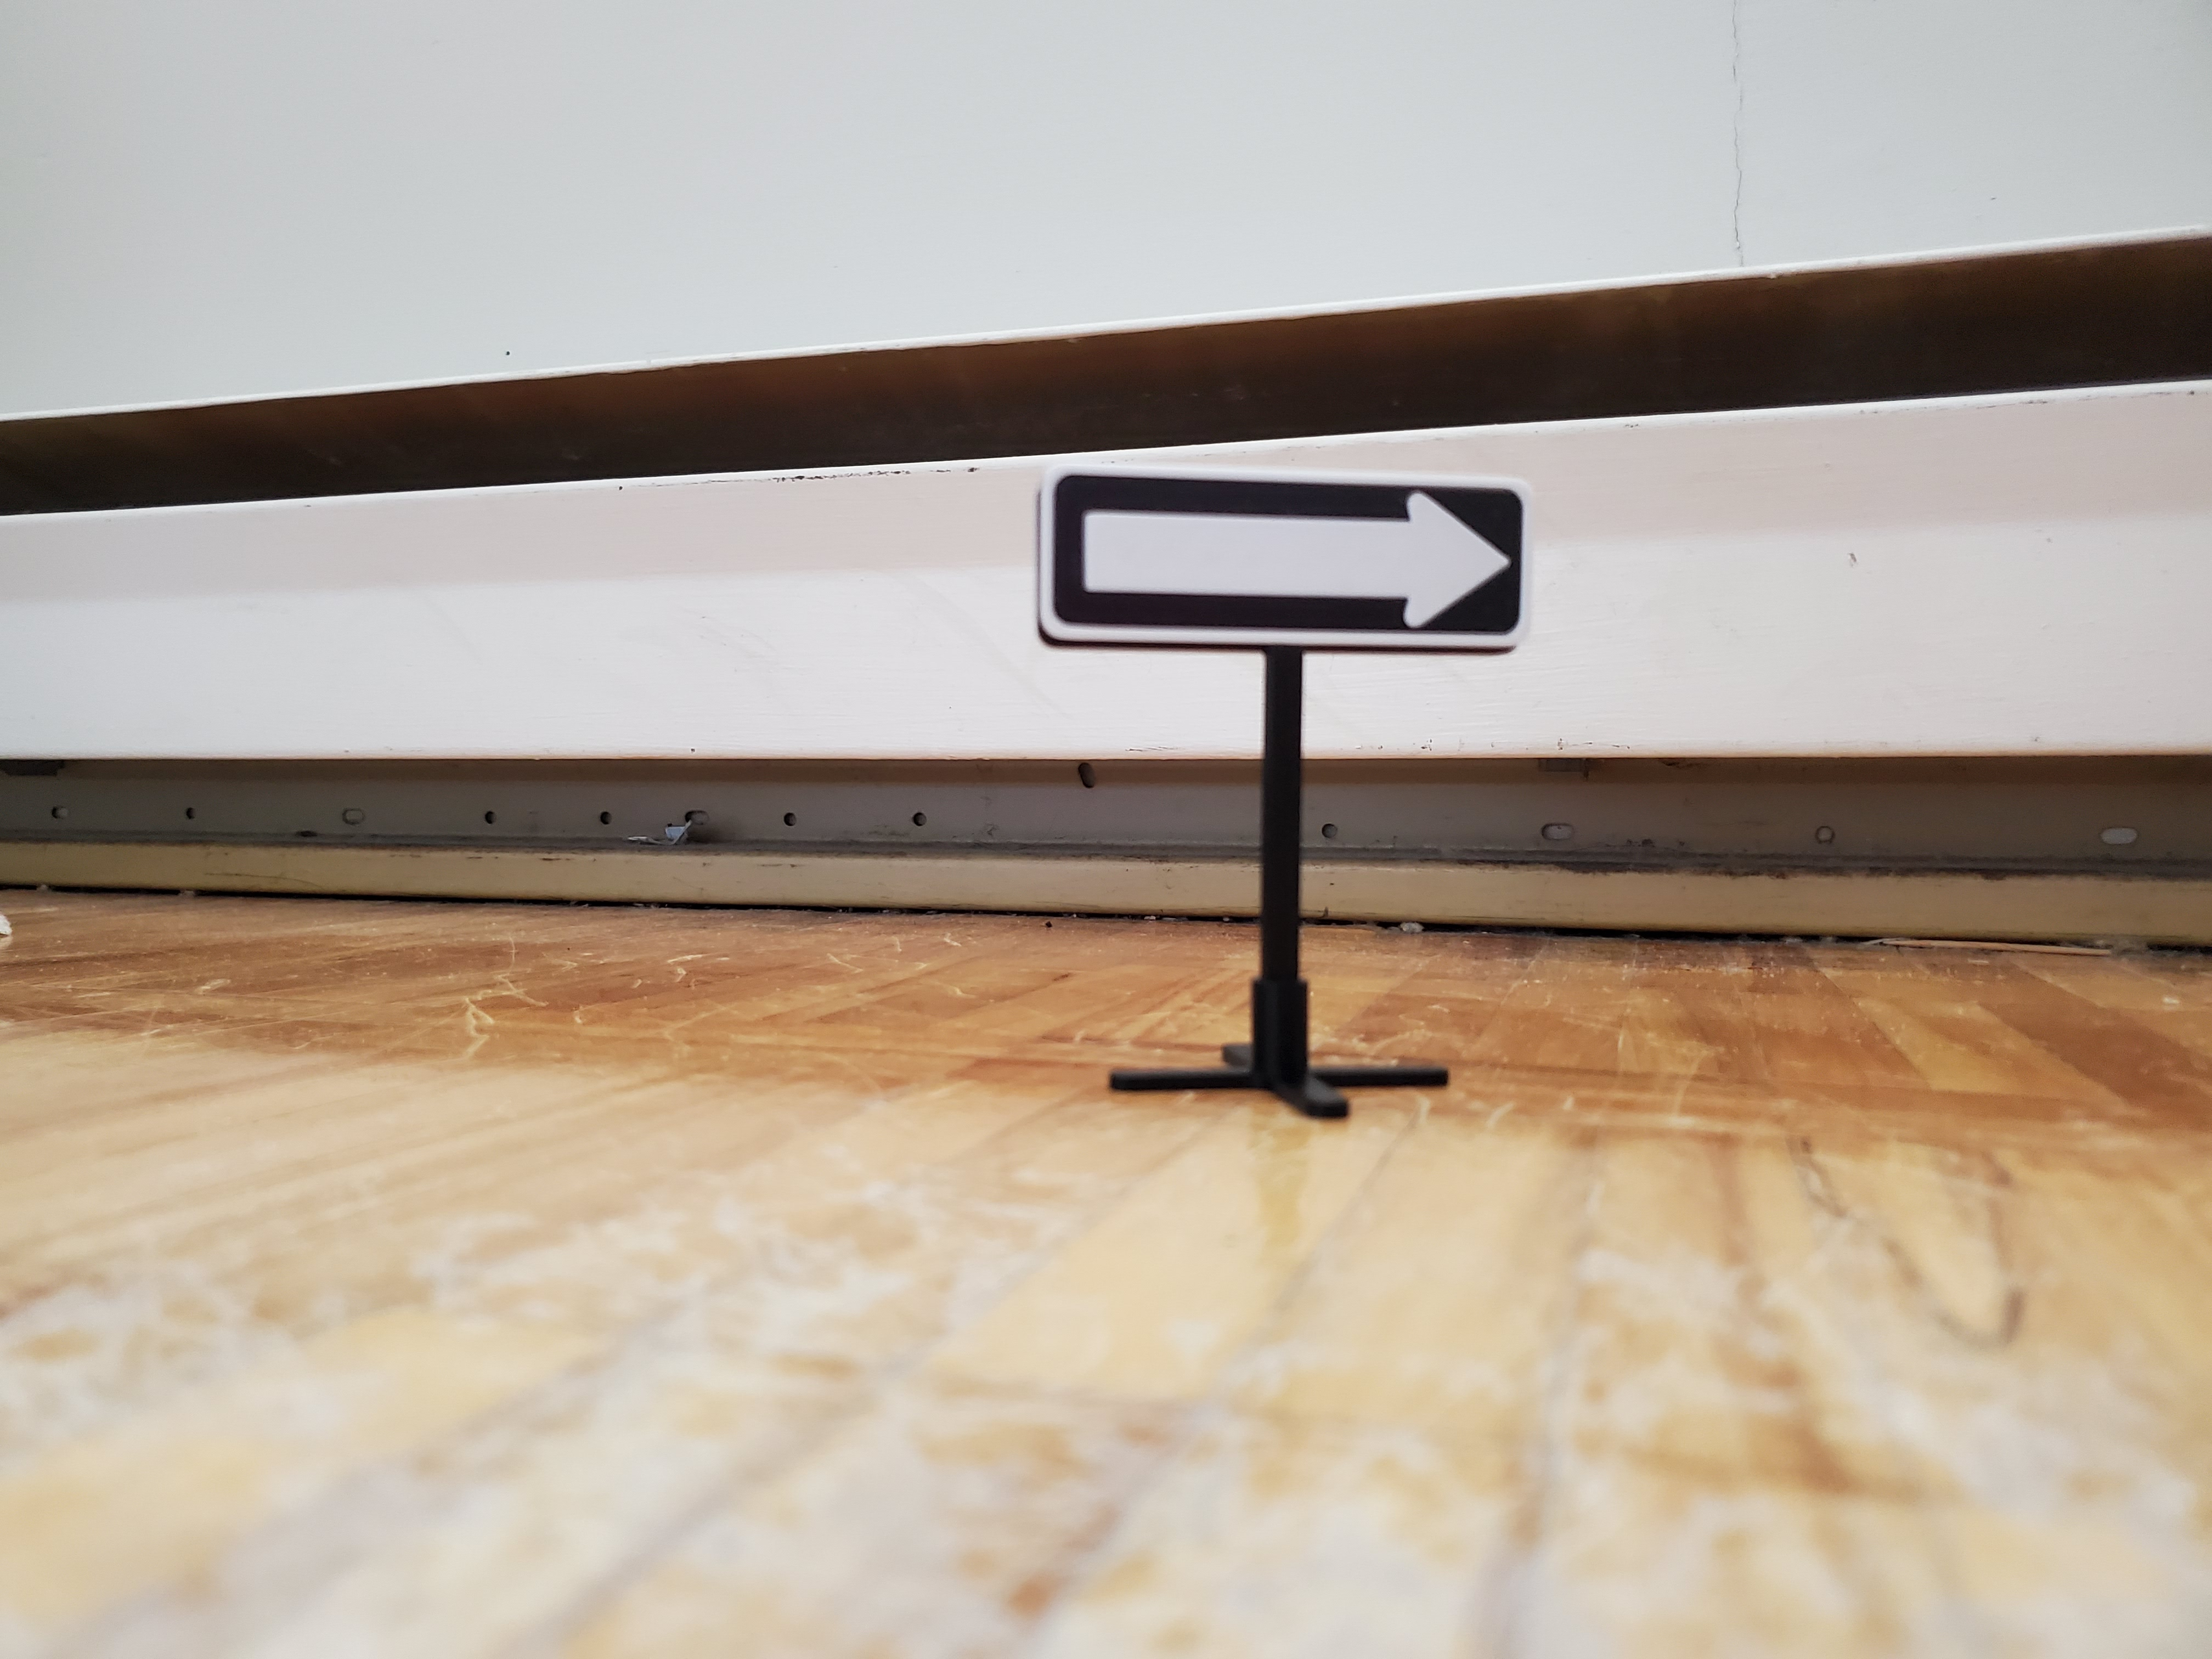sign_oneway_right: (963, 392, 1592, 1180)
